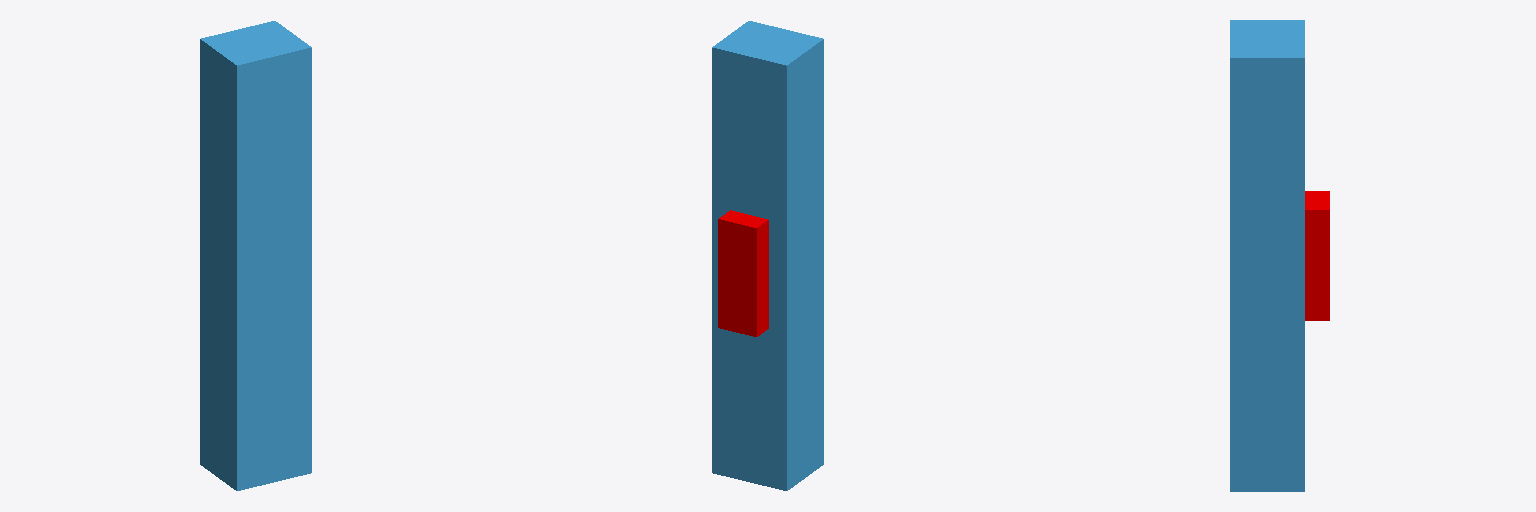
robot.urdf — knife:
<?xml version='1.0' encoding='utf-8'?>
<robot name="knife">
  <link name="link_1">
    <visual name="link_1">
      <origin xyz="0 0.011694 0" rpy="0 0 0" />
      <geometry>
        <box size="0.01063988031587051 0.005743536497313379 0.02887908812638163" /></geometry>
    <material name="red"><color rgba="1 0 0 1" /></material></visual>
    <collision>
      <origin xyz="0 0.011694 0" rpy="0 0 0" />
      <geometry>
        <box size="0.01063988031587051 0.005743536497313379 0.02887908812638163" /></geometry>
    </collision>
    </link>
  <joint name="joint_1" type="prismatic">
    <origin xyz="0 0 0" />
    <axis xyz="0 0 1" />
    <child link="link_1" />
    <parent link="link_0" />
    <limit lower="-0.013180" upper="0.036820" effort="100.0" velocity="1.0" />
  </joint>
  <link name="link_0">
    <visual name="link_0">
      <origin xyz="0 0 0" />
      <geometry>
        <box size="0.020764585687421136 0.017644895488022356 0.11266579400452717" /></geometry>
    </visual>
    <collision>
      <origin xyz="0 0 0" />
      <geometry>
        <box size="0.020764585687421136 0.017644895488022356 0.11266579400452717" /></geometry>
    </collision>
    </link>
</robot>

--- What the picture shows (computed from the rendered views, not written in the file) ---
Views: 3 orthographic renders of the robot side by side, from view 1: azimuth 30°, elevation 25°; view 2: azimuth 150°, elevation 25°; view 3: azimuth 270°, elevation 25°.
Robot: knife — 2 links, 1 joints (1 prismatic); root link link_0; default pose: every joint at zero.
Links seen in each view (by area): view 1: link_0; view 2: link_0, link_1; view 3: link_0, link_1.
Link boxes in pixels (x1,y1,x2,y2): link_0: (200,21,311,490); link_0: (712,21,823,490); link_1: (718,210,768,336); link_0: (1230,20,1304,491); link_1: (1305,191,1329,320).
Bounding box of the posed robot: 0.0208 × 0.0234 × 0.1127 m (x, y, z).
Geometry: primitives only (box / cylinder / sphere), no mesh files.
